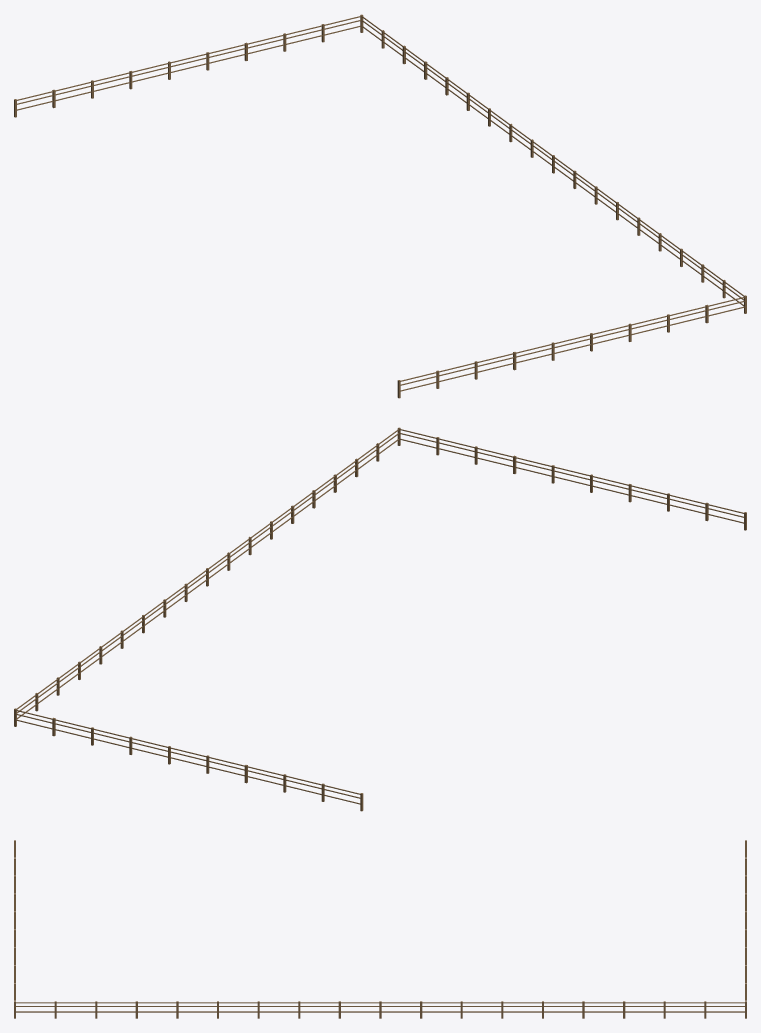
The model's file is lwf_cow_pasture_fence_v1.glb.
3 views of the same model, one above another, from view 1: azimuth 30°, elevation 25°; view 2: azimuth 150°, elevation 25°; view 3: azimuth 270°, elevation 25° (orthographic). The views are drawn at different scales.
Parts seen in each view (by area): view 1: LWF_CowPasture_Fence; view 2: LWF_CowPasture_Fence; view 3: LWF_CowPasture_Fence.
Boxes of the visible parts, x1,y1,x2,y2 form: LWF_CowPasture_Fence: (14,14,746,398); LWF_CowPasture_Fence: (14,427,746,811); LWF_CowPasture_Fence: (14,840,746,1018).
Size of the model in its own units: 25.14 by 1.2 by 48.14.
1 material, 1 textured.
